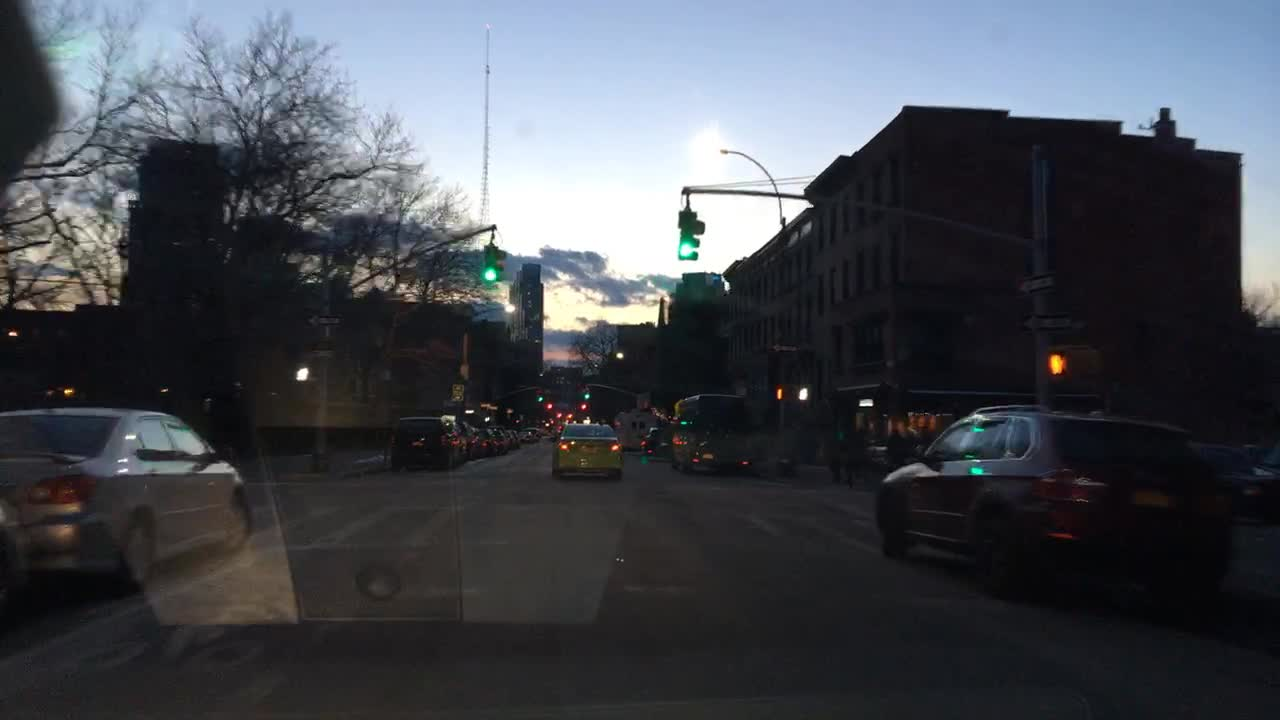bus: (667, 393, 761, 476)
car: (872, 401, 1235, 603), (0, 406, 257, 592), (1190, 441, 1277, 527), (546, 421, 626, 481), (391, 411, 471, 470), (459, 419, 487, 459), (653, 425, 675, 457), (480, 426, 502, 455), (643, 424, 661, 454), (495, 429, 510, 451), (504, 431, 519, 450), (520, 426, 536, 442), (511, 429, 524, 446), (529, 425, 541, 439)
person: (825, 426, 847, 486), (884, 425, 909, 471)
traffic light: (676, 212, 703, 262), (480, 244, 506, 284), (1045, 346, 1070, 376), (772, 381, 787, 403), (536, 389, 545, 403), (583, 389, 590, 404)
traffic sign: (1013, 269, 1063, 296), (1020, 313, 1076, 333), (303, 310, 344, 329), (311, 339, 334, 359), (450, 381, 464, 401)
